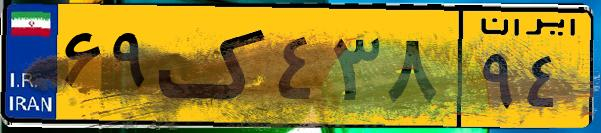3: (330, 28, 385, 110)
4: (270, 28, 330, 110), (525, 38, 570, 115)
6: (57, 26, 110, 100)
8: (385, 28, 445, 110)
9: (475, 38, 525, 113), (110, 28, 158, 98)
ک: (158, 12, 270, 120)
